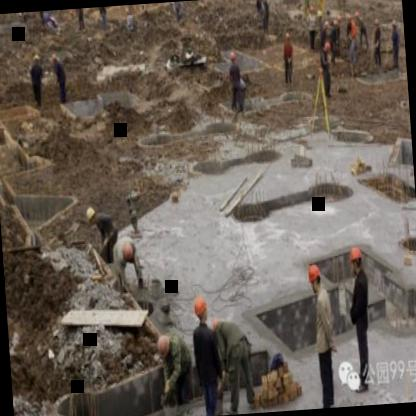helmet: (346, 243, 366, 277), (304, 263, 324, 294), (121, 238, 138, 272), (192, 292, 210, 324), (156, 334, 174, 361), (84, 203, 98, 228)
